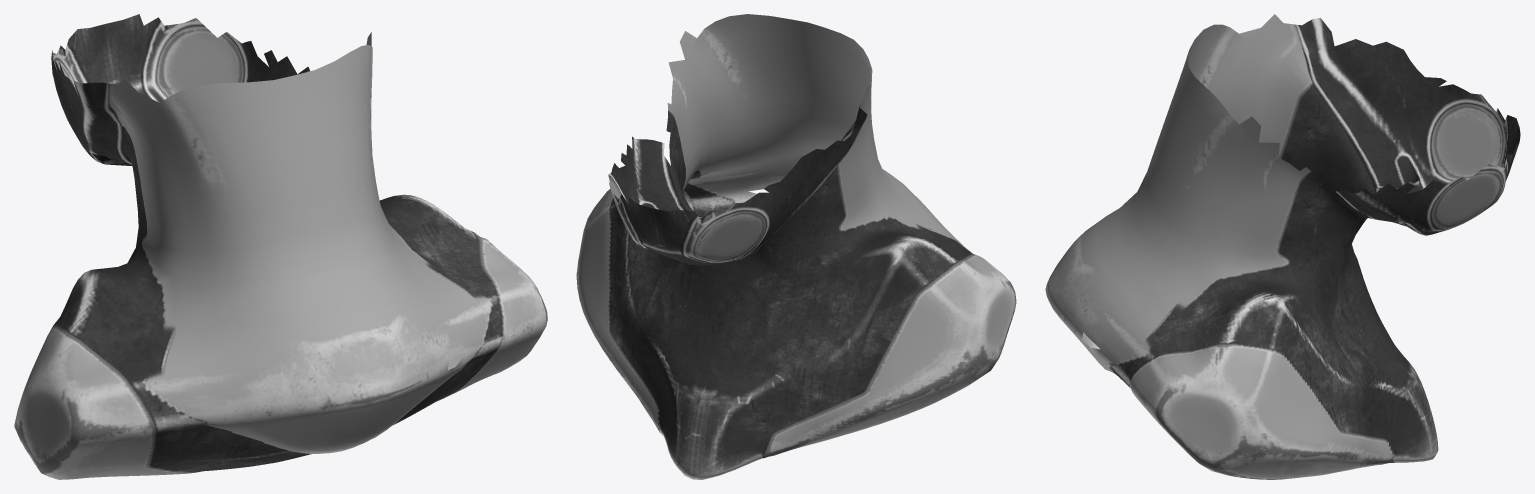
Rendered from robot3back-compressed.glb.
3 renders of one model, left to right at view 1: azimuth 30°, elevation 25°; view 2: azimuth 150°, elevation 25°; view 3: azimuth 270°, elevation 25°, orthographic. The views are drawn at different scales.
Visible parts, largest first — view 1: Object_2.001; view 2: Object_2.001; view 3: Object_2.001.
Part boxes in pixels (x1,y1,x2,y2): Object_2.001: [14, 14, 547, 479]; Object_2.001: [576, 14, 1016, 479]; Object_2.001: [1045, 14, 1520, 479].
Bounding box in the file's own units: 1.02 × 0.9106 × 0.983.
1 material, 1 textured.
